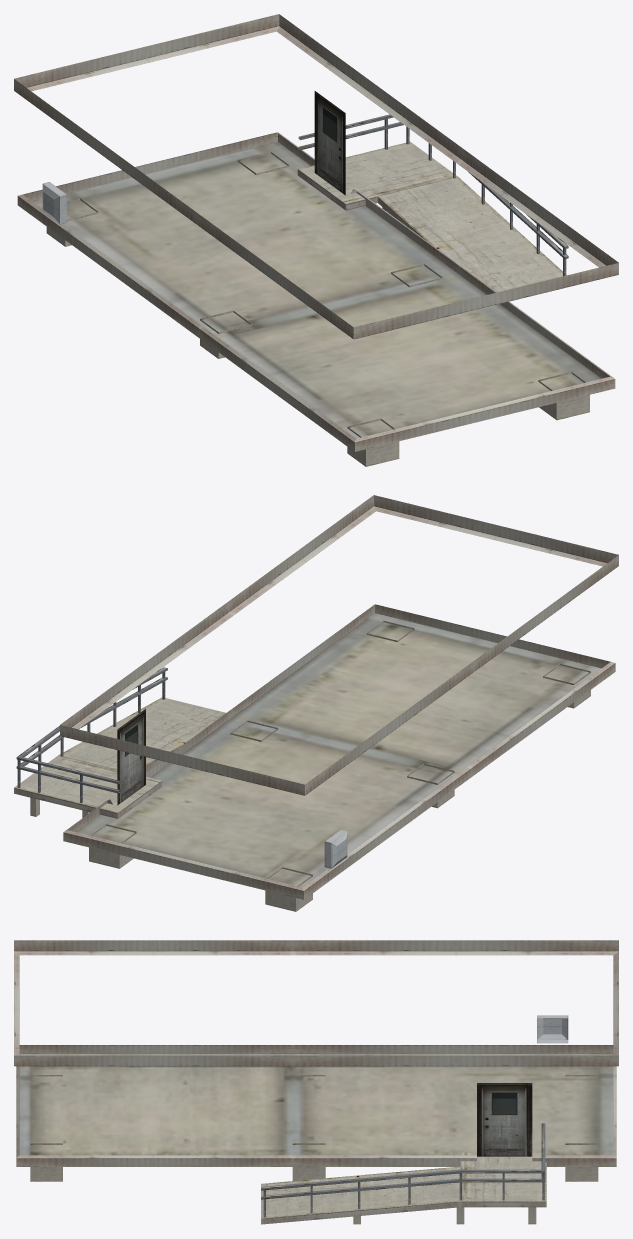
File: rural_unmobilehome_1_rural_facade_flr_2_0.glb
The picture shows the model from 3 angles, top to bottom: view 1: azimuth 30°, elevation 25°; view 2: azimuth 150°, elevation 25°; view 3: azimuth 270°, elevation 25°; orthographic projection. The views are drawn at different scales.
Parts seen in each view (by area): view 1: Rural_UnmobileHome_1_Rural_Facade_FLR_2_0; view 2: Rural_UnmobileHome_1_Rural_Facade_FLR_2_0; view 3: Rural_UnmobileHome_1_Rural_Facade_FLR_2_0.
Part boxes in pixels (x1=…): Rural_UnmobileHome_1_Rural_Facade_FLR_2_0: x1=14, y1=14, x2=618, y2=466; Rural_UnmobileHome_1_Rural_Facade_FLR_2_0: x1=14, y1=495, x2=618, y2=911; Rural_UnmobileHome_1_Rural_Facade_FLR_2_0: x1=14, y1=940, x2=618, y2=1224.
Size of the model in its own units: 4.92 by 1.99 by 8.08.
Materials: 1 (1 with a texture image).
